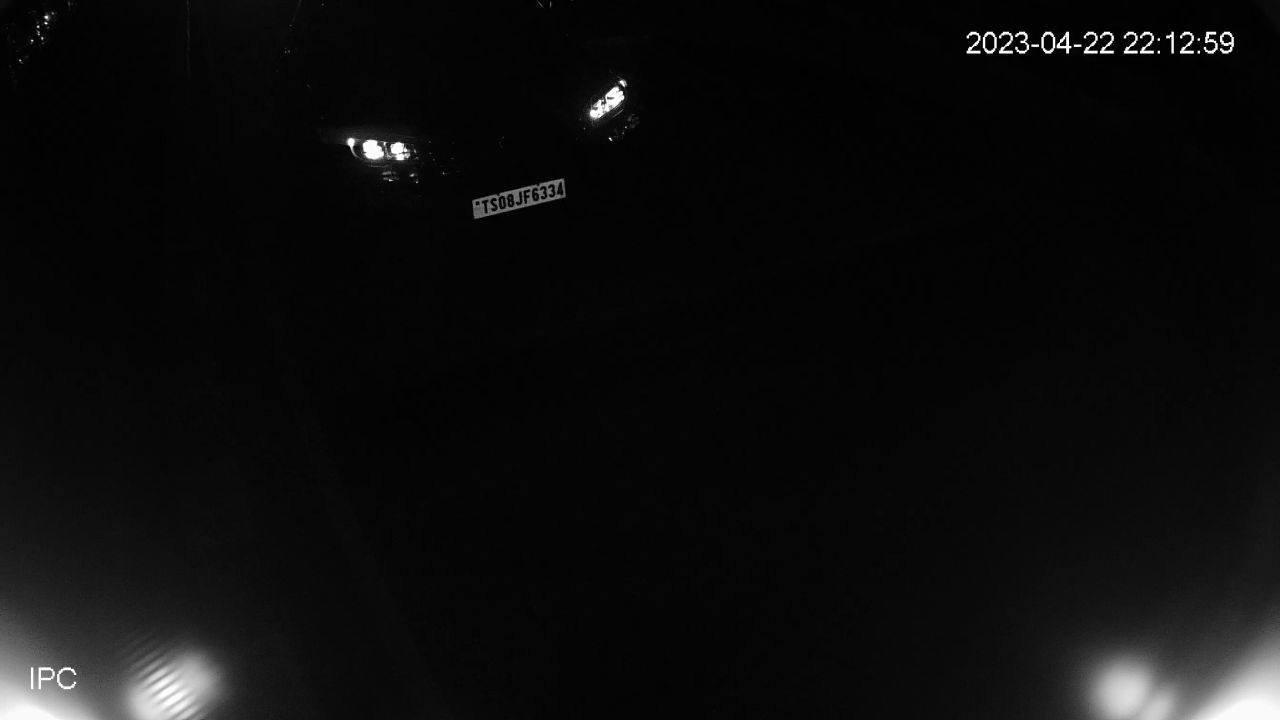license_plate: (467, 172, 569, 227)
